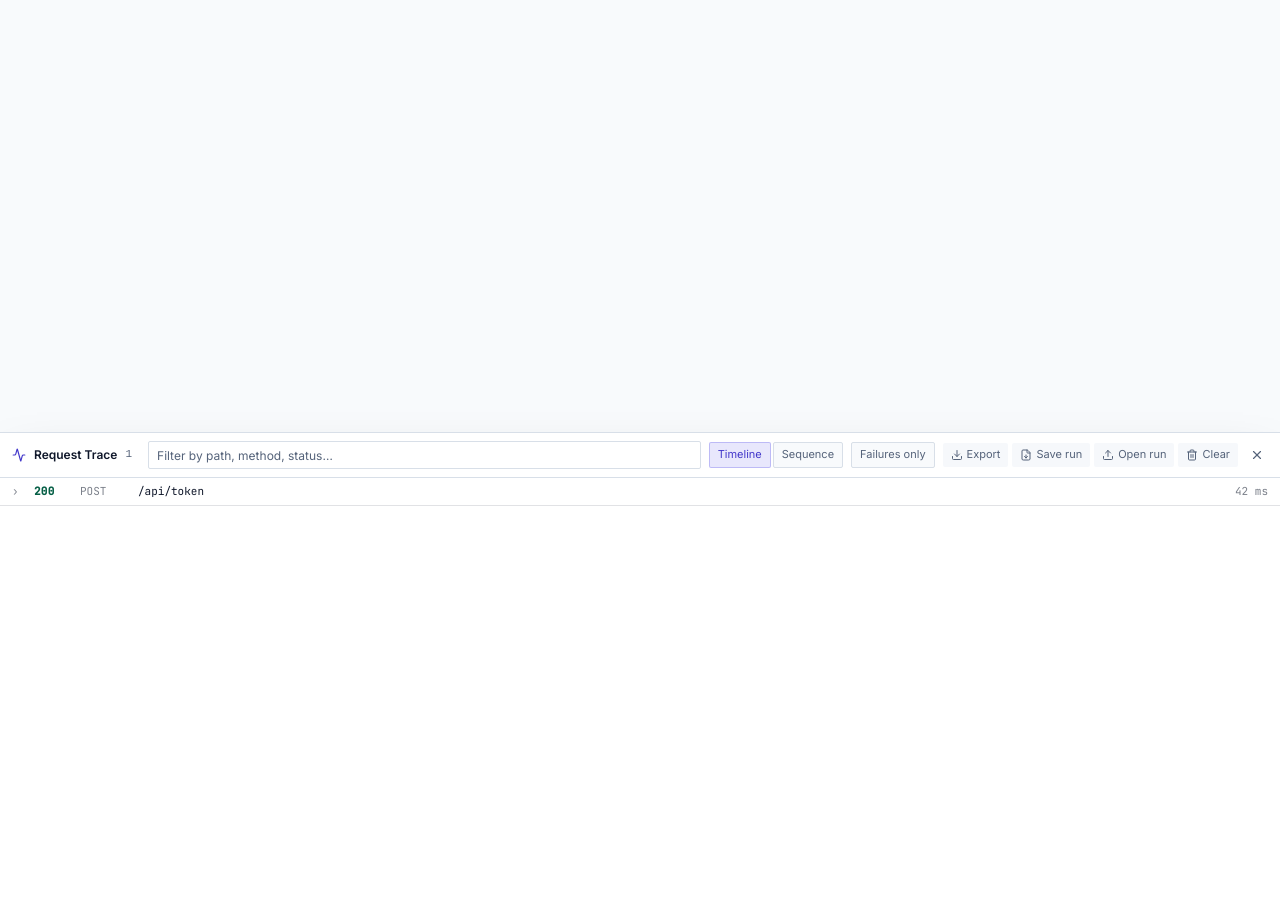
Scenario: TracePanel › clears the trace
Click the button "Clear" at point(1208, 455), box [1178, 443, 1238, 467]
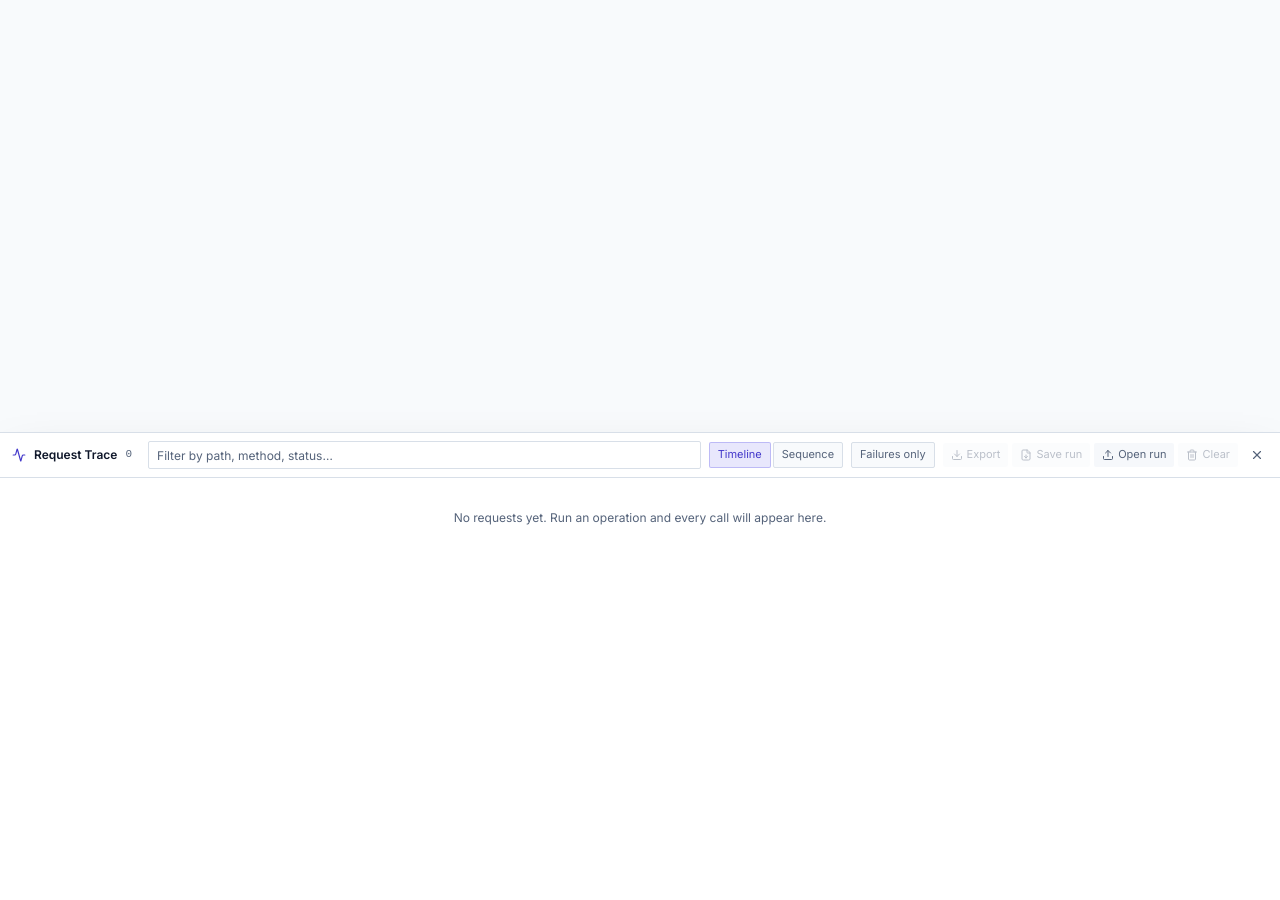
Now the text "No requests yet" is shown, box [454, 510, 826, 525]
